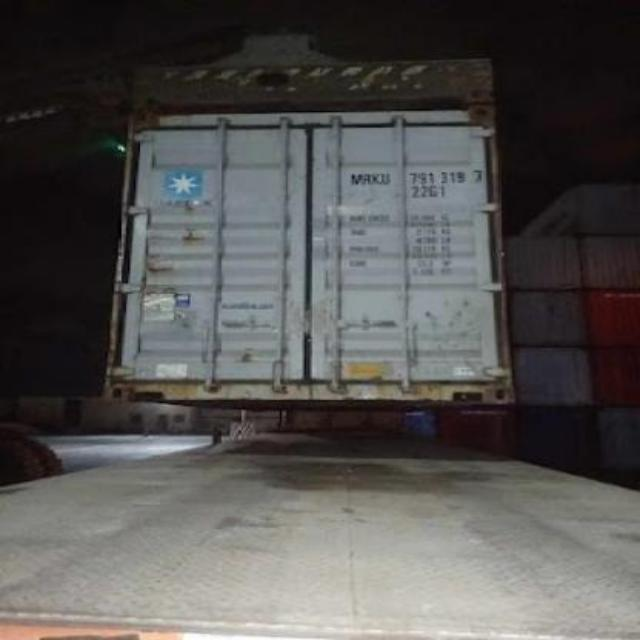1: (426, 162, 438, 184), (448, 162, 456, 182)
3: (436, 167, 448, 185)
7: (472, 166, 484, 184), (408, 167, 418, 185)
9: (456, 156, 468, 190), (416, 164, 426, 186)
M: (348, 167, 364, 190)
R: (362, 156, 372, 188)
U: (381, 167, 394, 185)
X: (372, 161, 382, 191)
